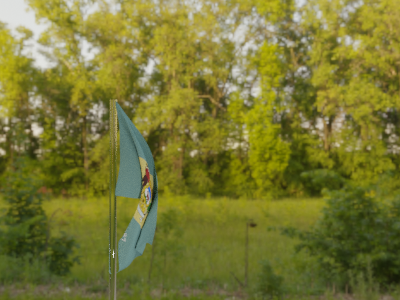Delaware flag: (110, 102, 159, 272)
